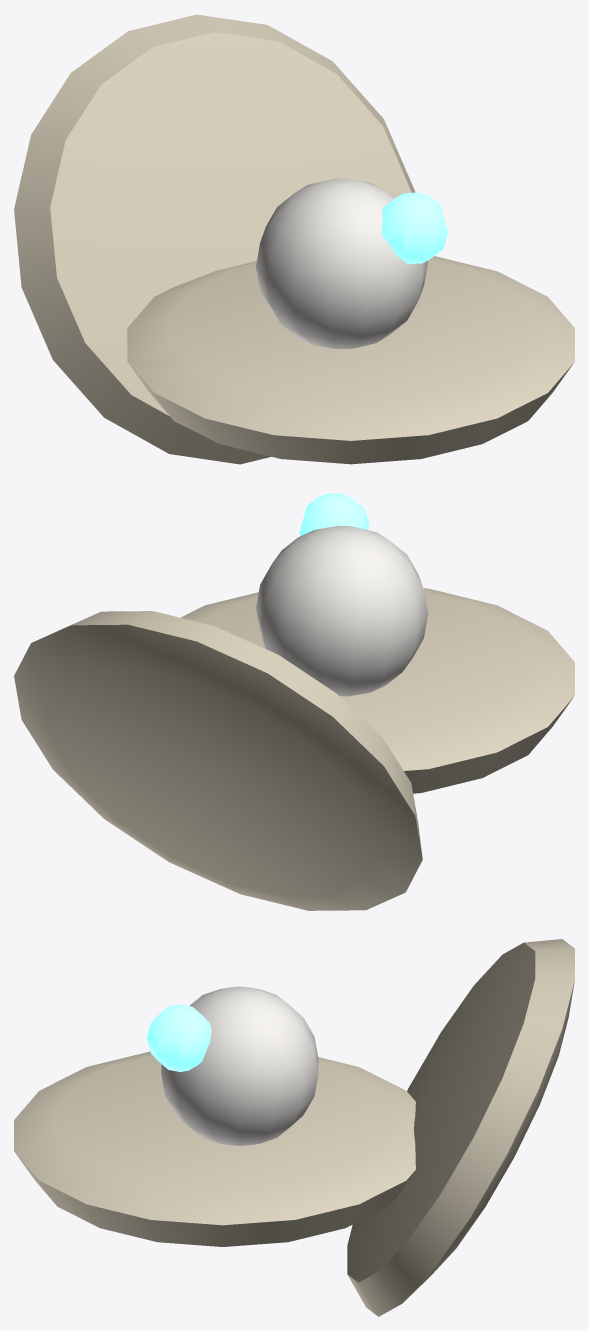
Rendered from tide_pearl.glb.
The picture shows the model from 3 angles, top to bottom: view 1: azimuth 30°, elevation 25°; view 2: azimuth 150°, elevation 25°; view 3: azimuth 270°, elevation 25°; orthographic projection. The views are drawn at different scales.
Visible parts, largest first — view 1: tide_pearl; view 2: tide_pearl; view 3: tide_pearl.
Boxes of the visible parts, <box> form: tide_pearl: <box>14,14,574,464</box>; tide_pearl: <box>14,493,574,910</box>; tide_pearl: <box>14,939,574,1316</box>.
Size of the model in its own units: 0.1 by 0.0853 by 0.1323.
